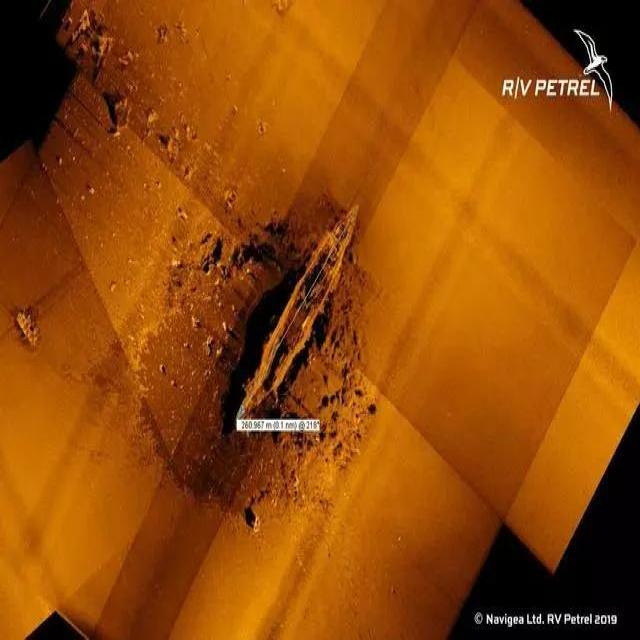ship: (235, 200, 361, 423)
